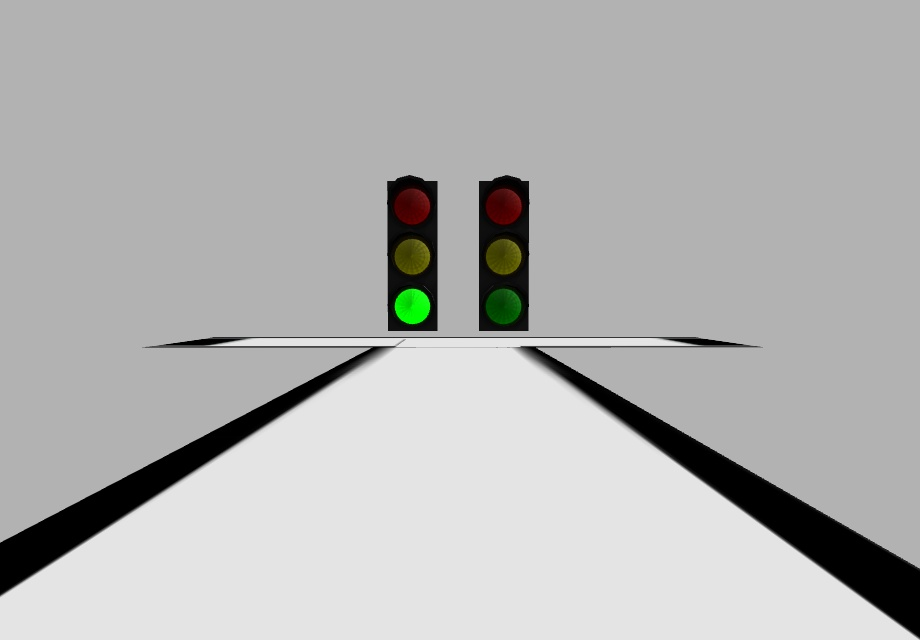green_off: (485, 288, 522, 329)
green_on: (392, 286, 431, 327)
